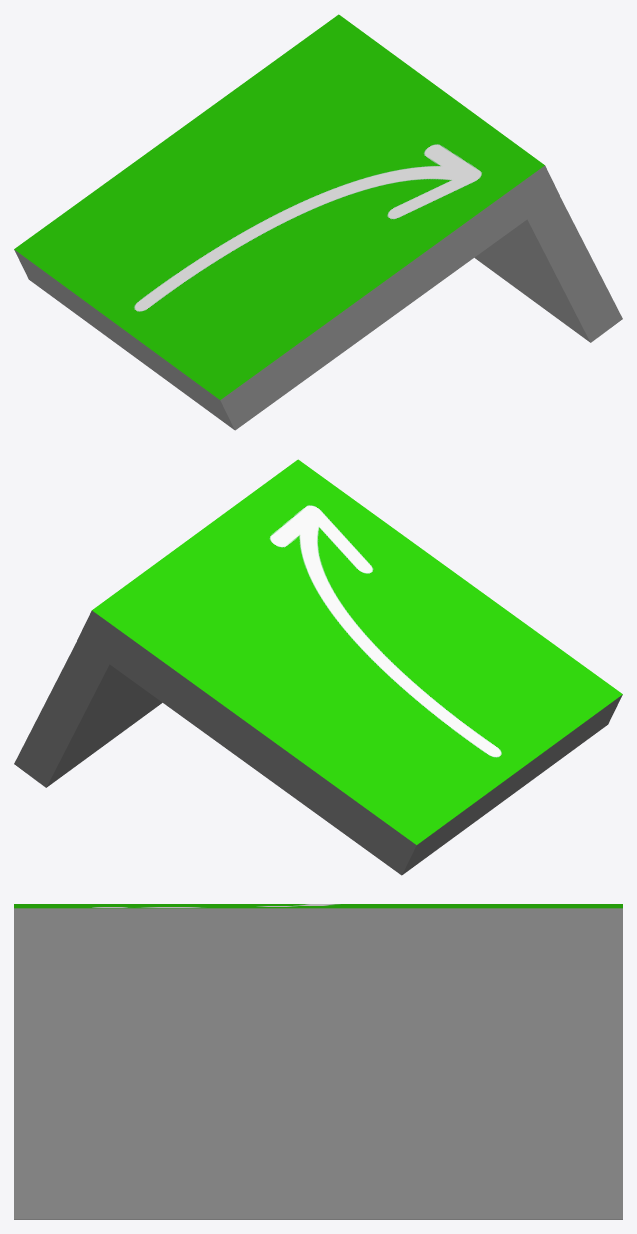
The model's file is fastR.fbx.
The picture shows the model from 3 angles, top to bottom: view 1: azimuth 30°, elevation 25°; view 2: azimuth 150°, elevation 25°; view 3: azimuth 270°, elevation 25°; orthographic projection. The views are drawn at different scales.
Parts seen in each view (by area): view 1: sign_back; view 2: sign_back; view 3: sign_back.
Part boxes in pixels (x1,y1,x2,y2): sign_back: (14, 14, 622, 430); sign_back: (14, 459, 622, 875); sign_back: (14, 904, 622, 1219).
Bounding box in the file's own units: 225 × 101 × 200.
